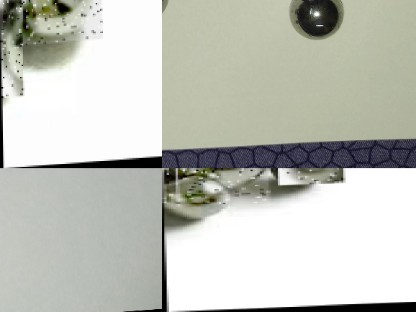ironball: (10, 0, 102, 45), (162, 175, 245, 220), (175, 168, 269, 206), (0, 0, 23, 97), (291, 0, 342, 39), (277, 168, 344, 186), (162, 168, 169, 202)
